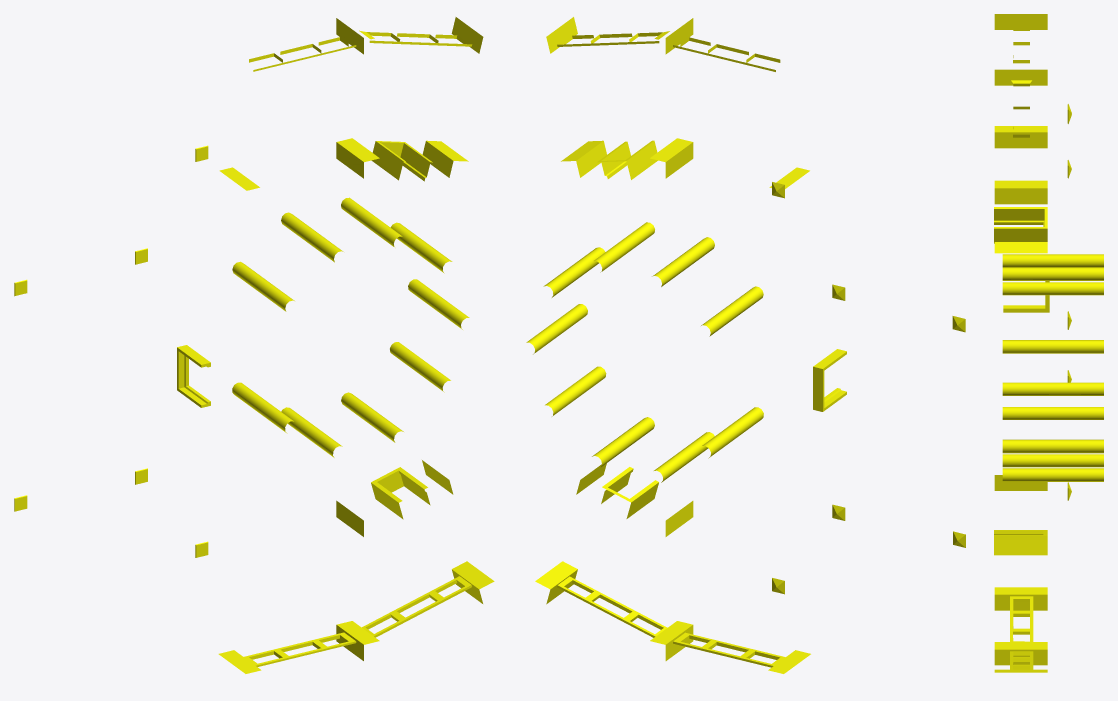
The model's file is columns2.gltf.
The picture shows the model from 3 angles, left to right: view 1: azimuth 30°, elevation 25°; view 2: azimuth 150°, elevation 25°; view 3: azimuth 270°, elevation 25°; orthographic projection. The views are drawn at different scales.
Visible parts, largest first — view 1: Box136; view 2: Box136; view 3: Box136.
Boxes of the visible parts, <box> form: Box136: <box>14,17,494,673</box>; Box136: <box>526,17,965,673</box>; Box136: <box>994,14,1103,672</box>.
Bounding box in the file's own units: 70.37 × 95.01 × 15.86.
2 materials, 2 textured.
